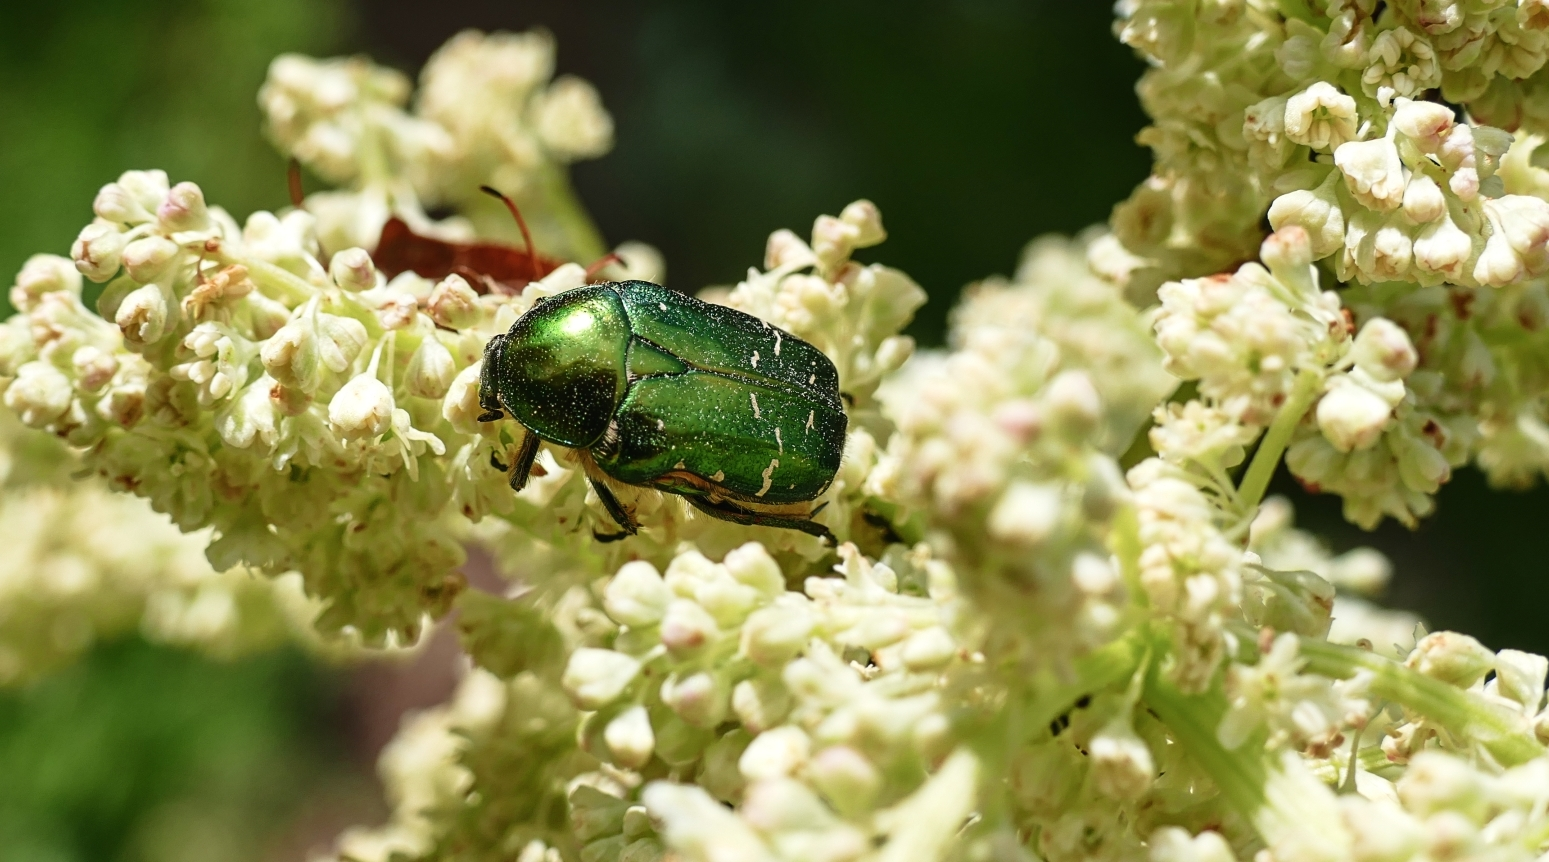Cetonia_aurata: (463, 274, 858, 562)
